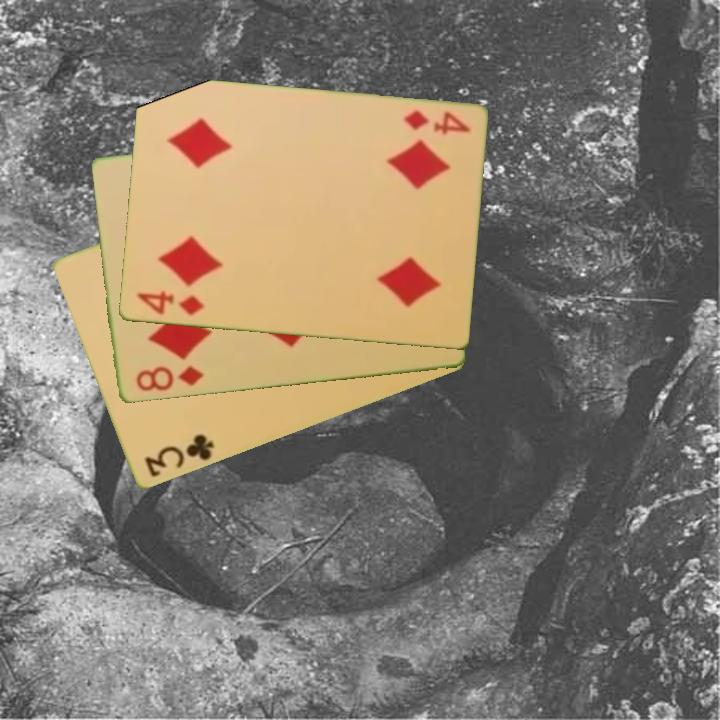3c: (141, 430, 217, 481)
4d: (400, 107, 473, 139), (132, 288, 207, 319)
8d: (132, 363, 206, 395)
